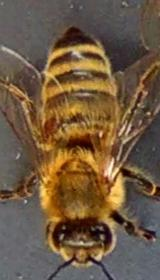varroa_mite: (34, 106, 62, 140)
